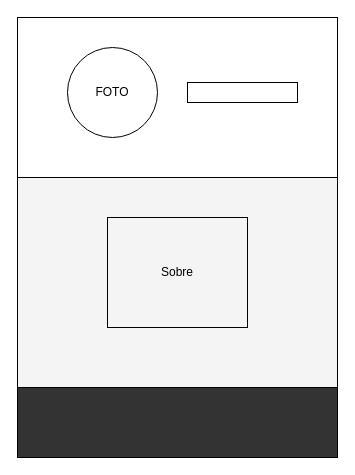
Image size: 355x475. Some labels were removed from this diagram. The centre of each missing label's shape, as x and y in pixels:
"CONTATO" belongs at [177,422].
"NOME" belongs at [242,92].
